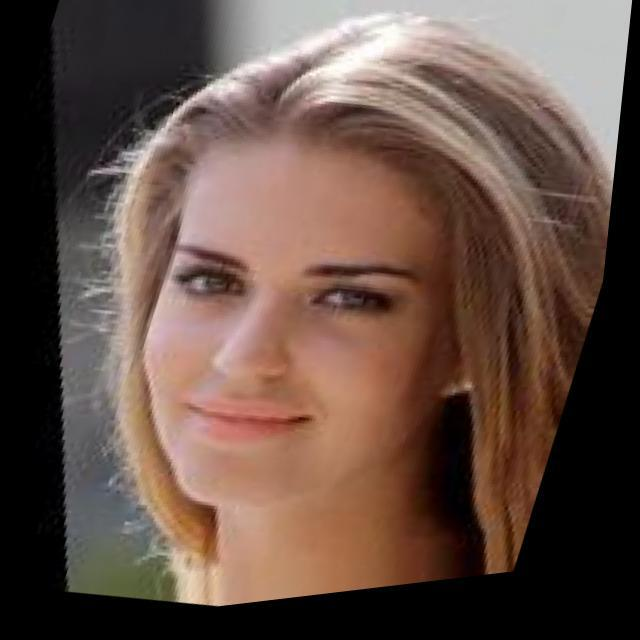Nonhelmet: (66, 0, 527, 519)
